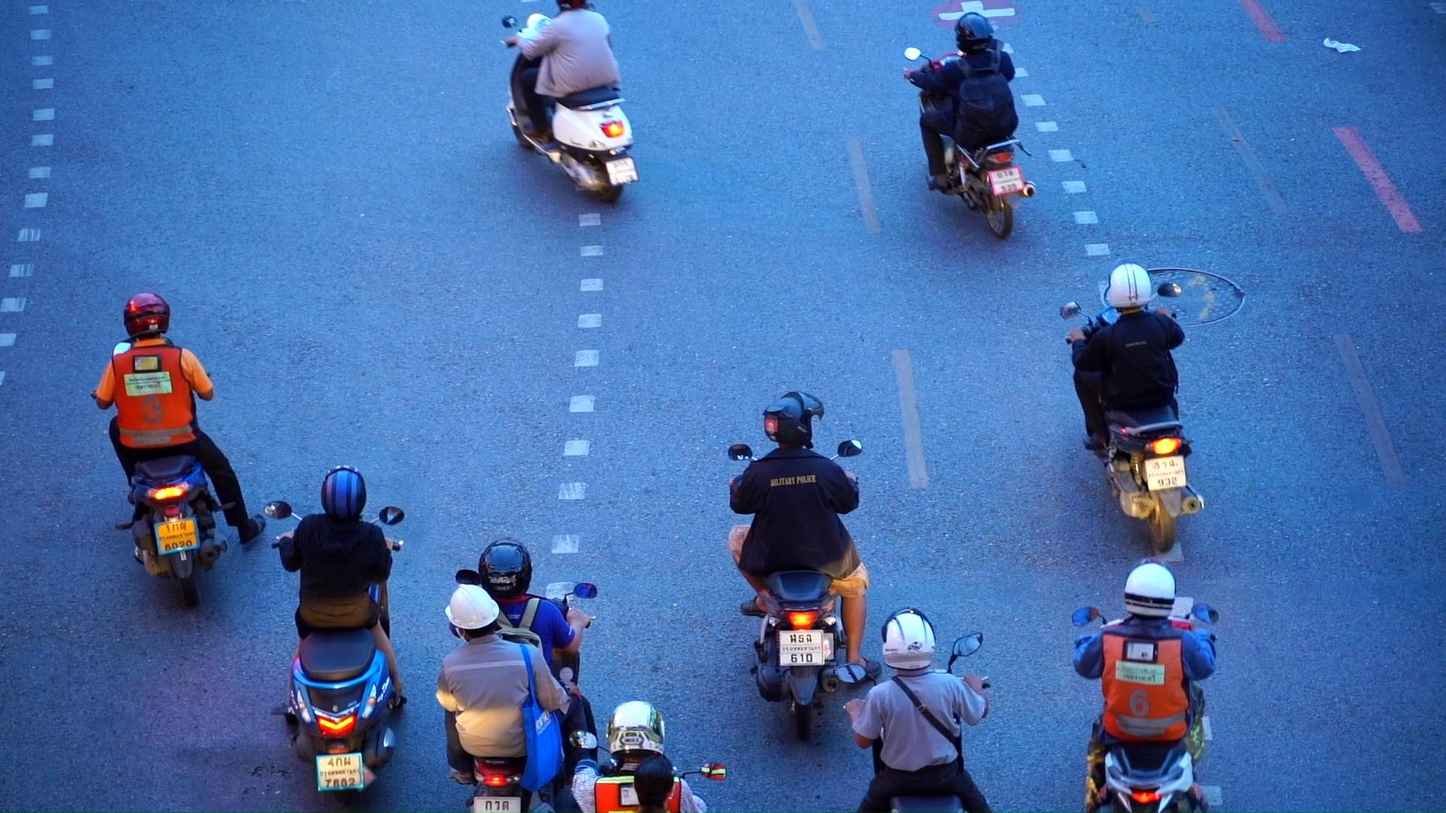driver: (90, 291, 266, 609), (729, 390, 882, 742), (264, 465, 408, 804), (435, 538, 597, 813), (1059, 257, 1206, 553), (1072, 556, 1219, 813), (835, 606, 993, 813), (903, 12, 1037, 239), (499, 0, 640, 202), (568, 699, 727, 813)
helmet: (762, 390, 824, 450), (881, 606, 937, 671), (606, 700, 665, 759), (444, 584, 500, 645), (1124, 556, 1177, 620), (478, 539, 532, 600), (321, 465, 366, 522), (1107, 257, 1152, 314), (124, 292, 170, 340), (954, 12, 995, 58)
no-helmet: (634, 755, 677, 813)
